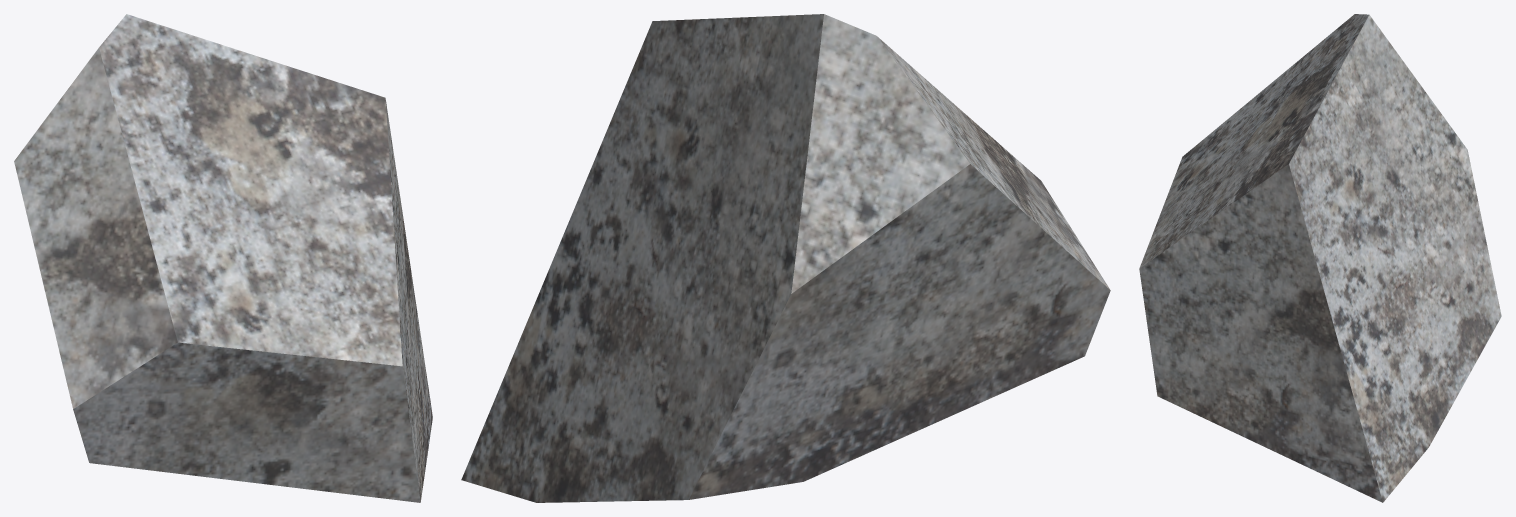
File: Asteroid_Large_001_02_009_03_041.fbx
The picture shows the model from 3 angles, left to right: view 1: azimuth 30°, elevation 25°; view 2: azimuth 150°, elevation 25°; view 3: azimuth 270°, elevation 25°; orthographic projection. The views are drawn at different scales.
Visible parts, largest first — view 1: Asteroid_Large_001_02_009_03_041; view 2: Asteroid_Large_001_02_009_03_041; view 3: Asteroid_Large_001_02_009_03_041.
Boxes of the visible parts, left/top/right/bottom form: Asteroid_Large_001_02_009_03_041: left=14, top=14, right=432, bottom=502; Asteroid_Large_001_02_009_03_041: left=461, top=14, right=1110, bottom=502; Asteroid_Large_001_02_009_03_041: left=1139, top=14, right=1501, bottom=502.
Size of the model in its own units: 11.09 by 10.97 by 9.71.
